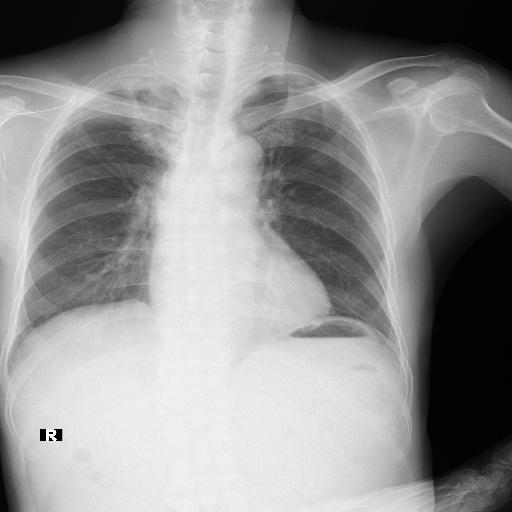Atelectasis: (80, 48, 140, 110)
Infiltration: (79, 56, 145, 120)
Pleural thickening: (230, 54, 302, 84), (42, 64, 128, 86)
Pulmonary fibrosis: (80, 49, 142, 116), (257, 50, 307, 108)
